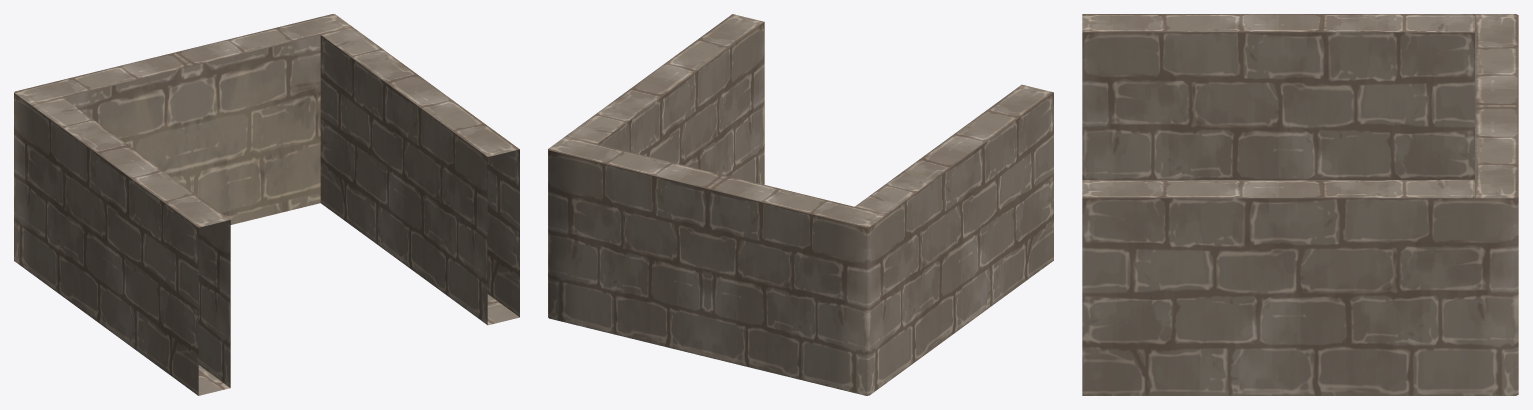
File: Stairs_Exterior_SidesU.gltf
3 views of the same model, side by side, from view 1: azimuth 30°, elevation 25°; view 2: azimuth 150°, elevation 25°; view 3: azimuth 270°, elevation 25° (orthographic). The views are drawn at different scales.
Parts seen in each view (by area): view 1: Stairs_Exterior_SidesU; view 2: Stairs_Exterior_SidesU; view 3: Stairs_Exterior_SidesU.
Boxes of the visible parts, bbox=[...] form: Stairs_Exterior_SidesU: bbox=[14, 14, 519, 395]; Stairs_Exterior_SidesU: bbox=[548, 14, 1053, 395]; Stairs_Exterior_SidesU: bbox=[1082, 14, 1518, 395].
Size of the model in its own units: 2 by 1 by 2.
1 material, 1 textured.
